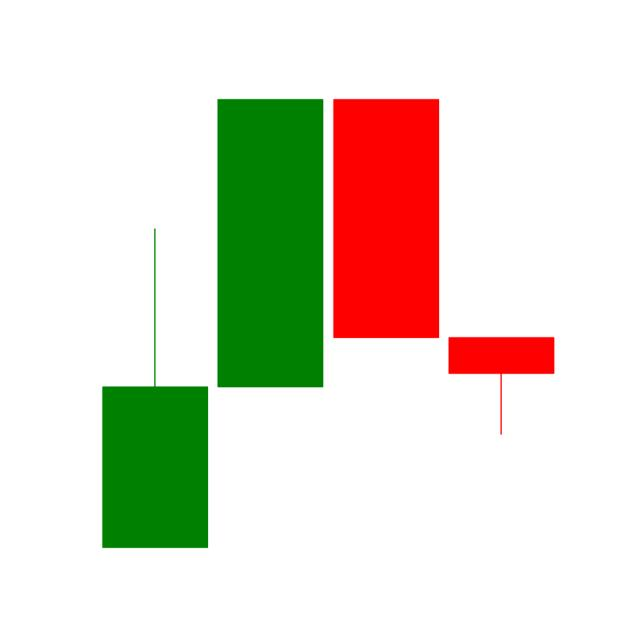Bearish Marubozu: (332, 99, 442, 340)
Bullish Marubozu: (216, 96, 324, 389)
